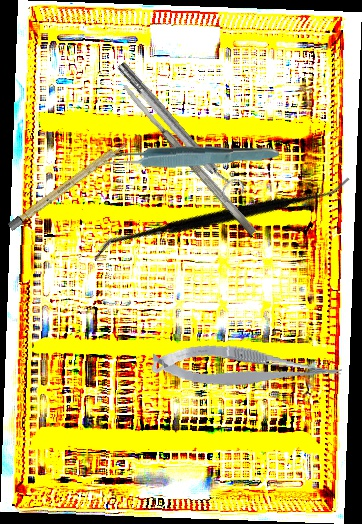Fixation Ring: (111, 54, 248, 207)
Micro Scissor: (149, 334, 344, 404)
Scalpel Handle: (7, 137, 131, 232)
Spatula Surgical: (90, 87, 354, 352), (120, 81, 258, 238)
Tissue Forceps: (101, 141, 280, 171)
